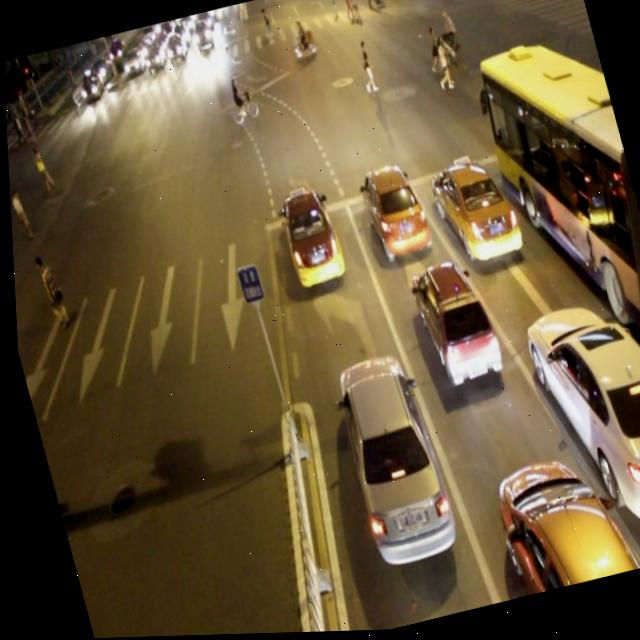car: (516, 287, 640, 542), (326, 349, 453, 566), (482, 448, 633, 601), (402, 256, 500, 391), (424, 156, 519, 270), (352, 161, 430, 263), (270, 184, 344, 289)
van: (469, 31, 640, 417)
